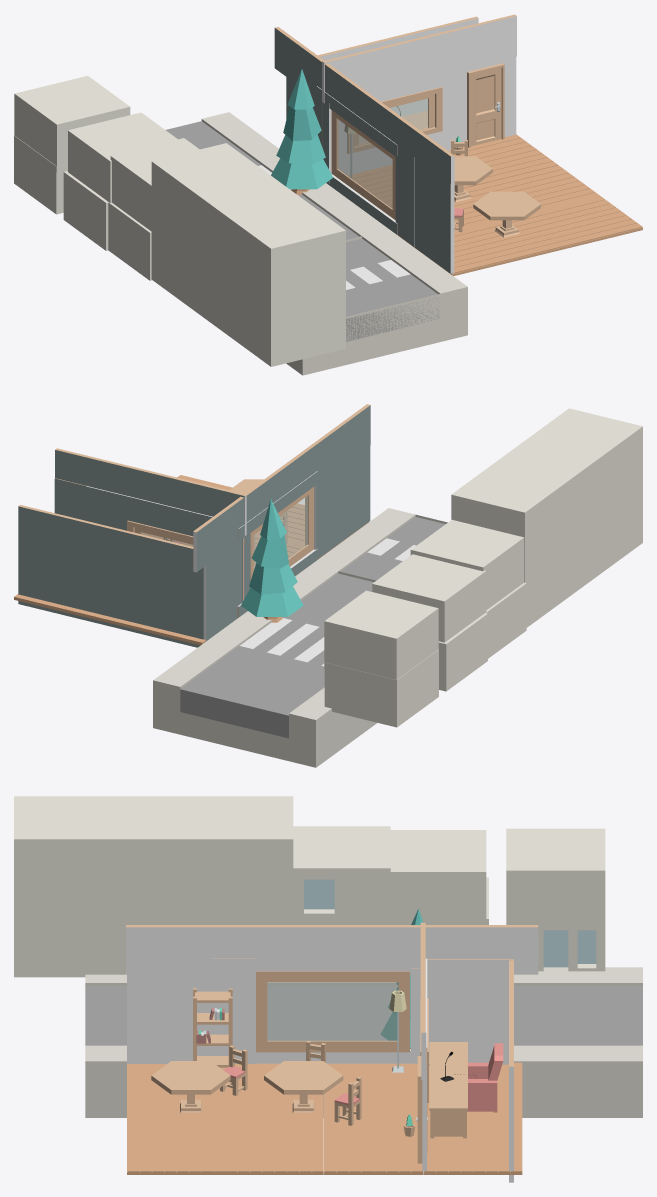
Rendered from scene_structure.glb.
3 renders of one model, top to bottom at view 1: azimuth 30°, elevation 25°; view 2: azimuth 150°, elevation 25°; view 3: azimuth 270°, elevation 25°, orthographic. The views are drawn at different scales.
Parts seen in each view (by area): view 1: Mesh1_Group1_Model (×9), cabinFloor (×3), Mesh_wall_2 (×4), Mesh_wall_1 (×3), Mesh_wallWindow_2, Mesh_treePine_1, Mesh_window (×2), tableRound(Clone) (×2), Mesh_door, Mesh_window_1, Mesh_wall (×2), Mesh_wallWindow (+1 smaller); view 2: Mesh1_Group1_Model (×9), Mesh_wall_2 (×7), Mesh_treePine_1, Mesh_wallWindow_1, cabinFloor (×2), Mesh_window, Mesh_window_1, Mesh_wall; view 3: Mesh1_Group1_Model (×7), Mesh_wall_1 (×7), cabinFloor (×4), Mesh_window, tableRound(Clone) (×2), Mesh_window_1, desk(Clone), Mesh_wall (×2), bookcaseOpen(Clone), Mesh_loungeChairRelax_1, Mesh_chairCushion (×2), doorway(Clone) (+1 smaller).
Part boxes in pixels (x1=…): Mesh1_Group1_Model (×9): x1=14, y1=75, x2=467, y2=375; cabinFloor (×3): x1=348, y1=134, x2=642, y2=276; Mesh_wall_2 (×4): x1=274, y1=28, x2=450, y2=273; Mesh_wall_1 (×3): x1=320, y1=16, x2=516, y2=136; Mesh_wallWindow_2: x1=338, y1=64, x2=483, y2=175; Mesh_treePine_1: x1=271, y1=69, x2=333, y2=189; Mesh_window (×2): x1=337, y1=98, x2=428, y2=208; tableRound(Clone) (×2): x1=454, y1=156, x2=540, y2=237; Mesh_door: x1=471, y1=67, x2=501, y2=146; Mesh_window_1: x1=331, y1=110, x2=395, y2=219; Mesh_wall (×2): x1=275, y1=14, x2=516, y2=156; Mesh_wallWindow: x1=322, y1=87, x2=442, y2=153; Mesh1_Group1_Model (×9): x1=153, y1=408, x2=642, y2=767; Mesh_wall_2 (×7): x1=18, y1=405, x2=370, y2=647; Mesh_treePine_1: x1=241, y1=499, x2=303, y2=616; Mesh_wallWindow_1: x1=86, y1=486, x2=242, y2=601; cabinFloor (×2): x1=14, y1=475, x2=368, y2=645; Mesh_window: x1=253, y1=496, x2=308, y2=570; Mesh_window_1: x1=250, y1=487, x2=313, y2=580; Mesh_wall: x1=193, y1=404, x2=369, y2=532; Mesh1_Group1_Model (×7): x1=14, y1=796, x2=642, y2=1117; Mesh_wall_1 (×7): x1=126, y1=927, x2=538, y2=1182; cabinFloor (×4): x1=127, y1=1062, x2=522, y2=1174; Mesh_window: x1=267, y1=982, x2=398, y2=1041; tableRound(Clone) (×2): x1=151, y1=1061, x2=343, y2=1112; Mesh_window_1: x1=256, y1=971, x2=409, y2=1052; desk(Clone): x1=429, y1=1042, x2=467, y2=1138; Mesh_wall (×2): x1=126, y1=922, x2=538, y2=1032; bookcaseOpen(Clone): x1=193, y1=988, x2=232, y2=1067; Mesh_loungeChairRelax_1: x1=467, y1=1043, x2=503, y2=1111; Mesh_chairCushion (×2): x1=220, y1=1045, x2=361, y2=1125; doorway(Clone): x1=417, y1=1056, x2=422, y2=1163.
Bounding box in the file's own units: 5.77 × 2.19 × 6.35.
